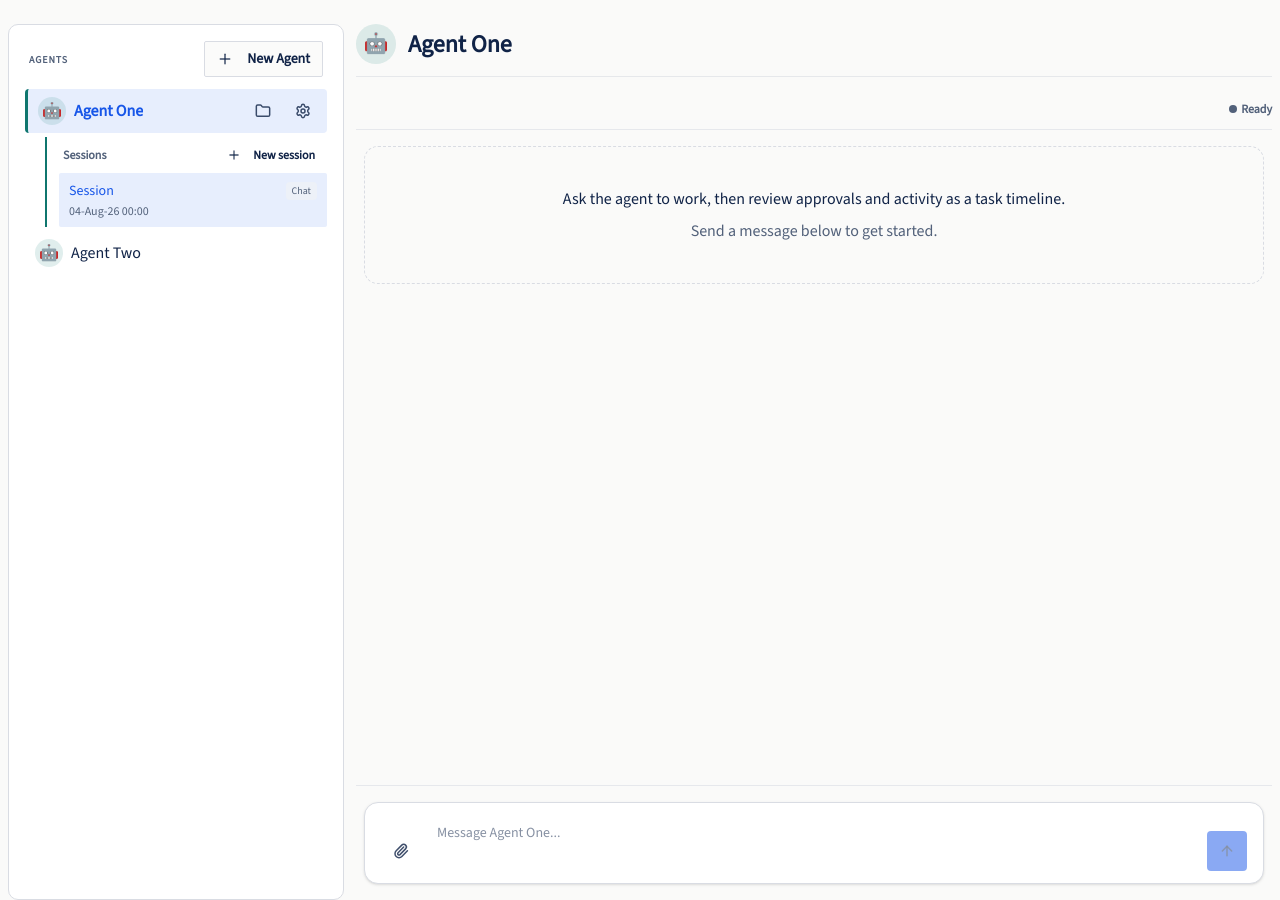
Scenario: AgentPageV2 deep-link and navigation › preserves the draft on network admission failure
The image size is (1280, 900).
In the text box: x=814, y=843 [429, 815, 1199, 871], type "keep this prompt"
Then press Enter
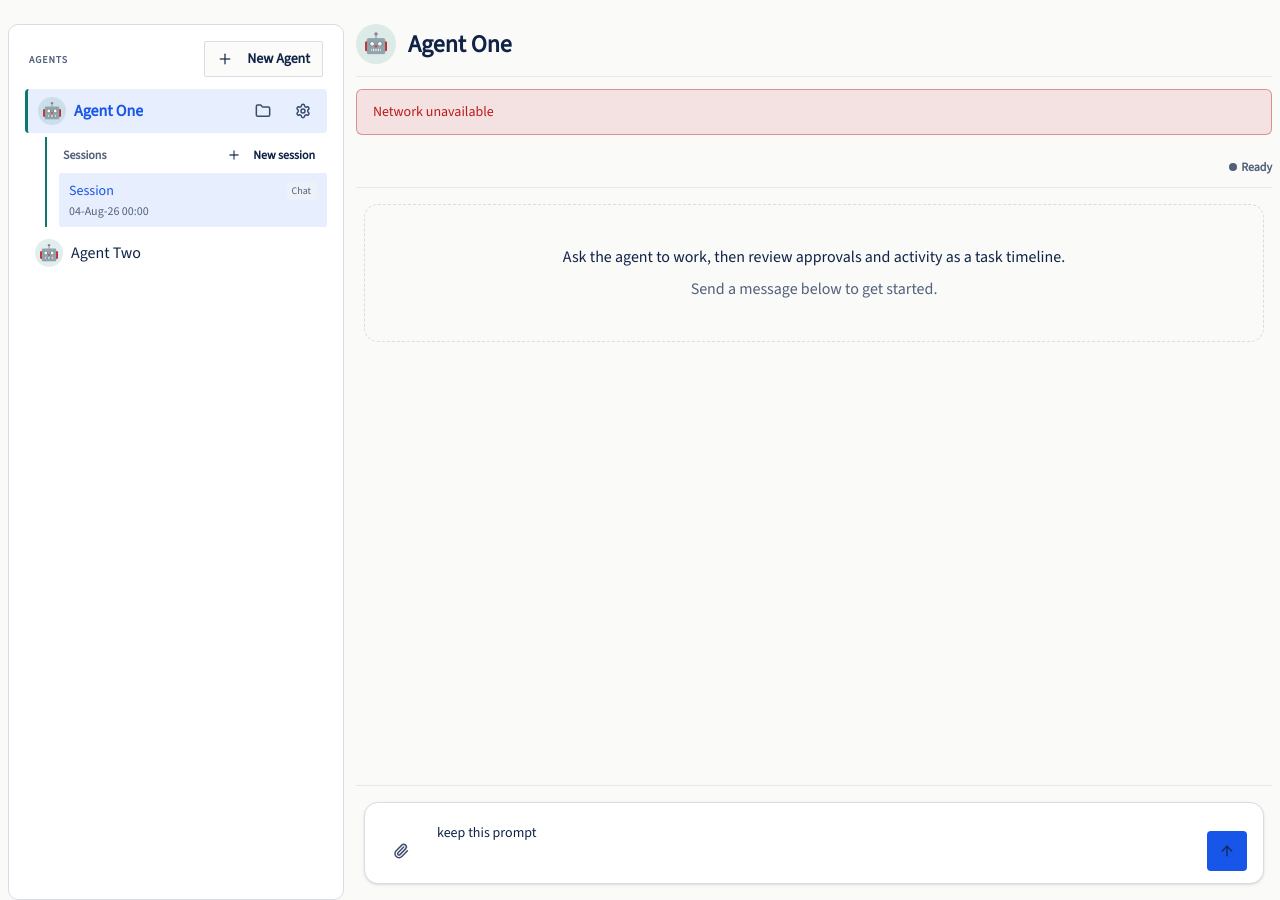
Check: the message reads "Network unavailable", box [373, 102, 494, 121]
